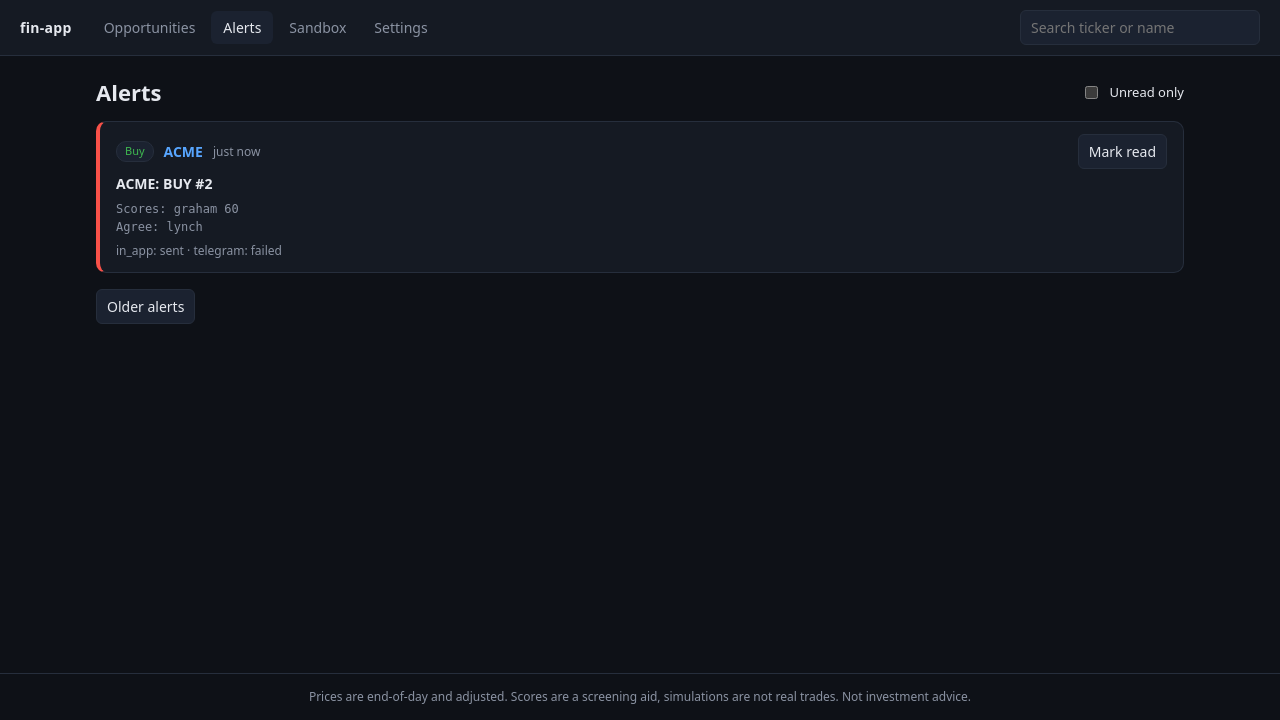
Scenario: loads older alerts with the cursor
The image size is (1280, 720).
Click the button "Older alerts": (146, 306) [96,289,195,324]
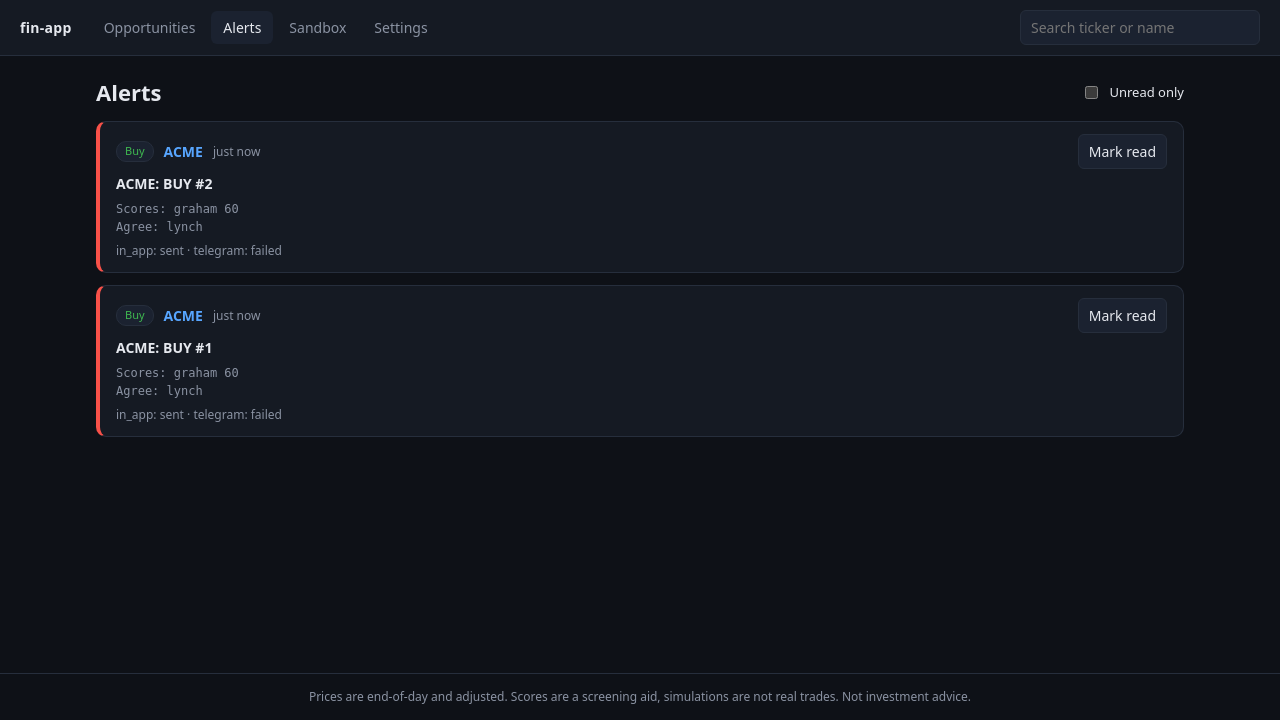
Expected: the text "ACME: BUY #1" is shown, [116,338,212,357]
Expected: the button "Older alerts" is gone
